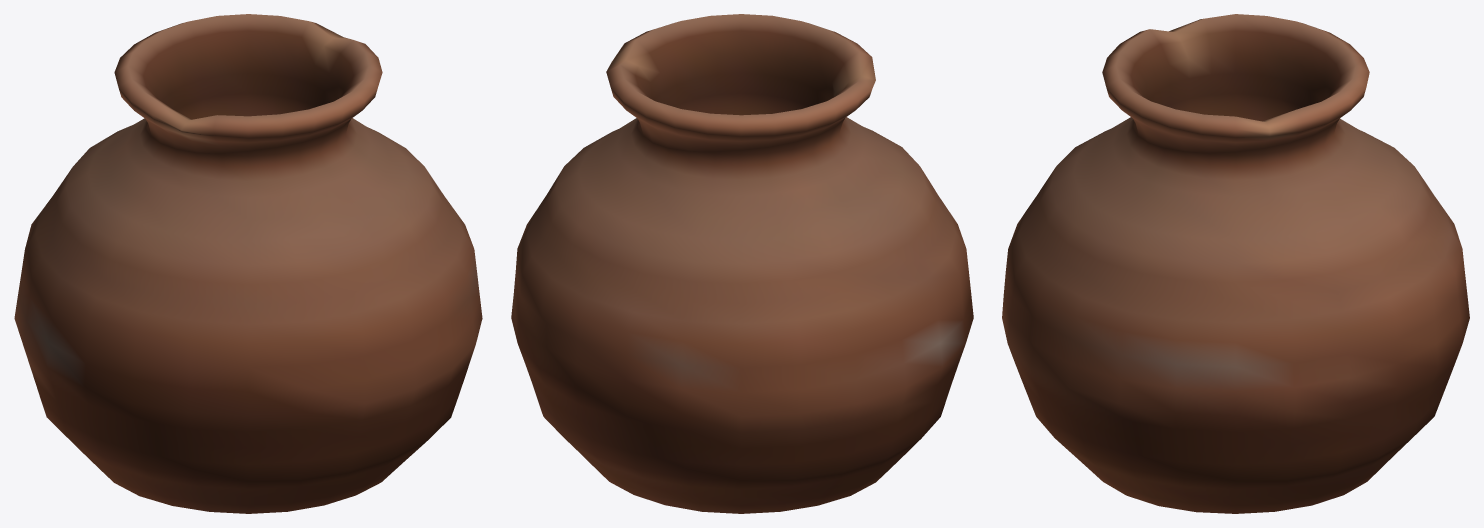
Rendered from pot_matka_v2_b.glb.
3 views of the same model, side by side, from view 1: azimuth 30°, elevation 25°; view 2: azimuth 150°, elevation 25°; view 3: azimuth 270°, elevation 25° (orthographic).
Visible parts, largest first — view 1: hb_main; view 2: hb_main; view 3: hb_main.
Boxes of the visible parts, x1=… form: hb_main: x1=14, y1=14, x2=482, y2=513; hb_main: x1=511, y1=14, x2=973, y2=513; hb_main: x1=1002, y1=14, x2=1469, y2=513.
Size of the model in its own units: 0.6072 by 0.585 by 0.6128.
